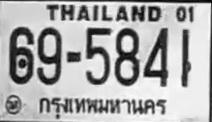1: (180, 27, 190, 87)
4: (143, 27, 168, 86)
5: (84, 27, 110, 84)
6: (8, 26, 33, 83)
8: (113, 27, 138, 85)
9: (36, 26, 62, 84)
BKK: (35, 92, 170, 119)
